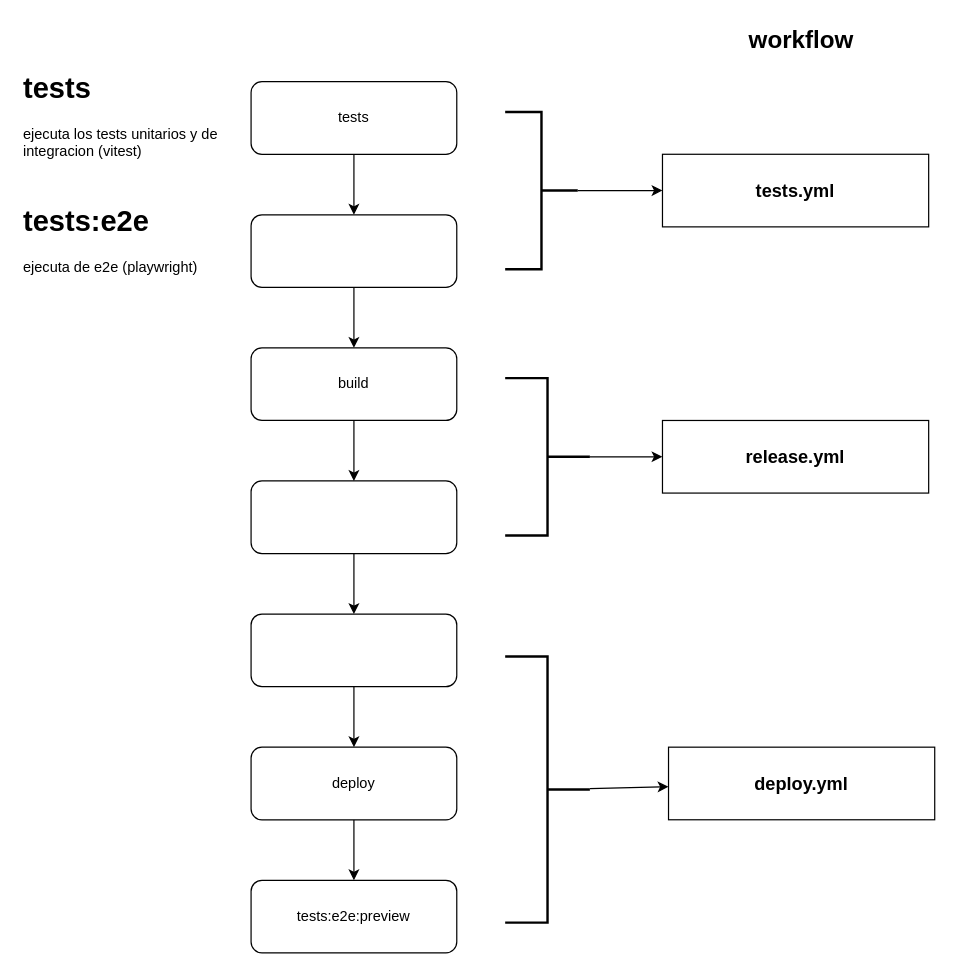
This 956x974 diagram has some shape labels left out. Each missing label, with the centre of its shape:
prepare:deploy: (353,650)
release: (353,517)
tests:e2e: (353,250)
